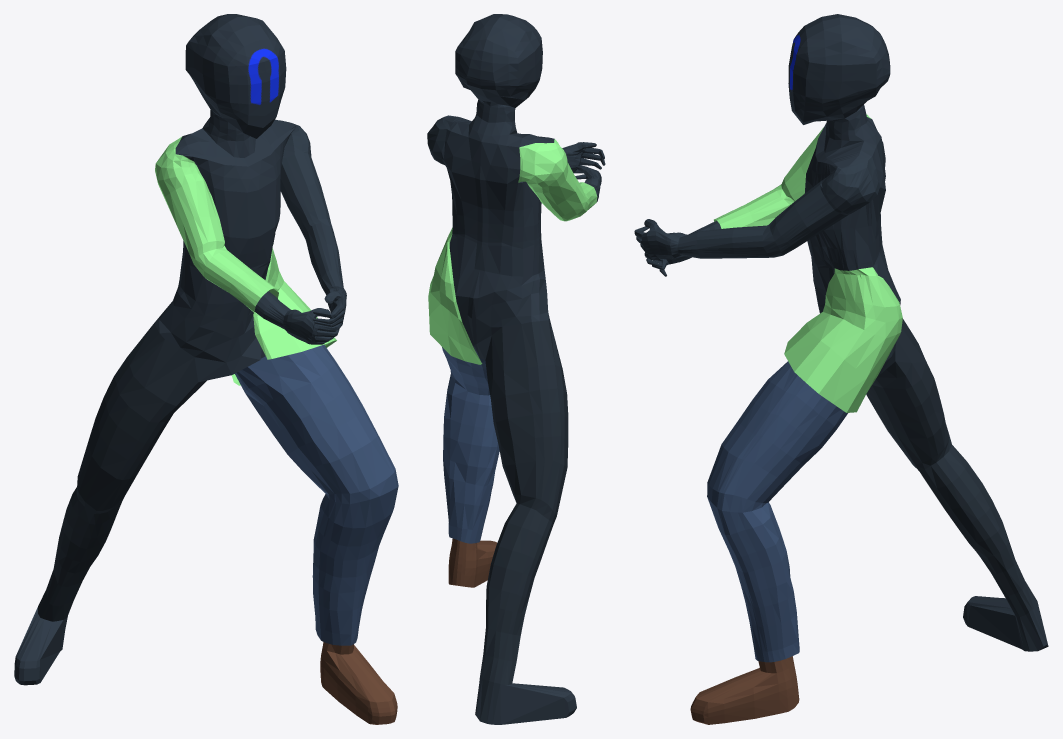
File: Mar_WR_000019.obj
3 renders of one model, left to right at view 1: azimuth 30°, elevation 25°; view 2: azimuth 150°, elevation 25°; view 3: azimuth 270°, elevation 25°, orthographic. The views are drawn at different scales.
Parts seen in each view (by area): view 1: Cube.000_Cube.001; view 2: Cube.000_Cube.001; view 3: Cube.000_Cube.001.
Boxes of the visible parts, x1=… form: Cube.000_Cube.001: x1=14, y1=14, x2=398, y2=724; Cube.000_Cube.001: x1=427, y1=14, x2=605, y2=724; Cube.000_Cube.001: x1=634, y1=14, x2=1048, y2=724.
Bounding box in the file's own units: 1.45 × 3.71 × 2.07.
